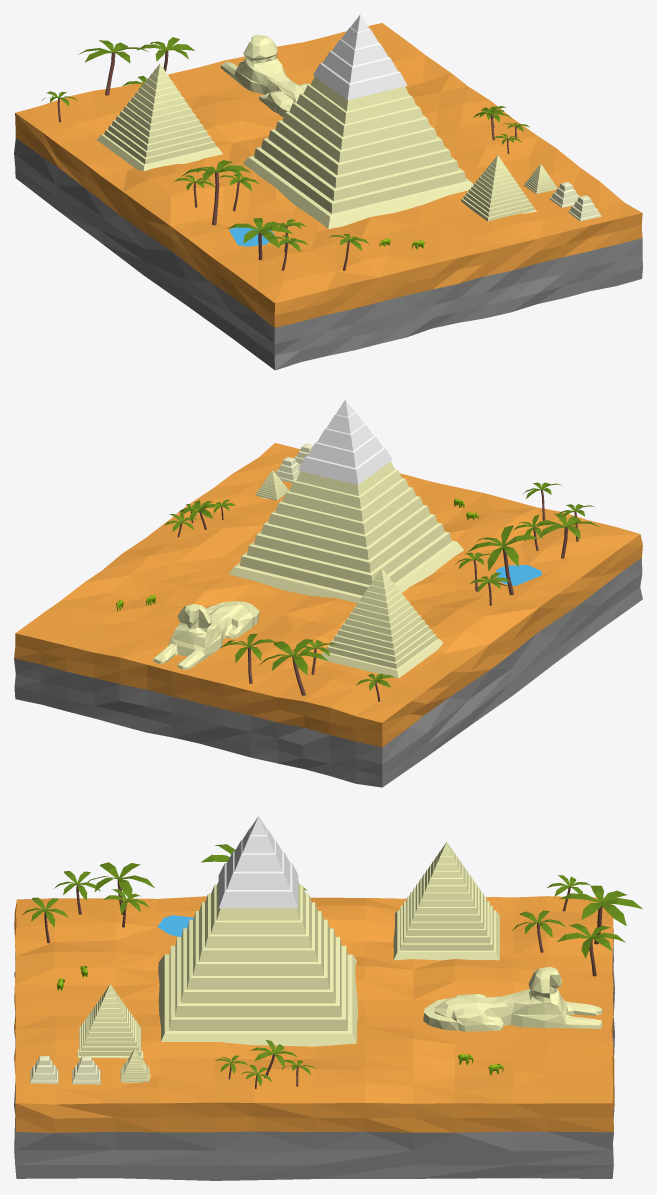
File: piramidetriang.FBX
The picture shows the model from 3 angles, top to bottom: view 1: azimuth 30°, elevation 25°; view 2: azimuth 150°, elevation 25°; view 3: azimuth 270°, elevation 25°; orthographic projection. The views are drawn at different scales.
Visible parts, largest first — view 1: Object068, Object072, Object066, Object064, Object076, Object060, Object062, Object074; view 2: Object068, Object072, Object066, Object064, Object060, Object076, Object062, Object074, Object070; view 3: Object068, Object072, Object066, Object064, Object060, Object076, Object074, Object062.
Part boxes in pixels (bbox=[...]): Object068: bbox=[15, 23, 642, 327]; Object072: bbox=[97, 34, 557, 228]; Object066: bbox=[14, 138, 642, 355]; Object064: bbox=[15, 167, 642, 370]; Object076: bbox=[313, 14, 407, 100]; Object060: bbox=[41, 37, 529, 252]; Object062: bbox=[57, 50, 516, 270]; Object074: bbox=[549, 182, 601, 221]; Object068: bbox=[14, 443, 642, 746]; Object072: bbox=[153, 461, 463, 678]; Object066: bbox=[14, 558, 642, 775]; Object064: bbox=[14, 587, 642, 787]; Object060: bbox=[164, 482, 598, 690]; Object076: bbox=[298, 399, 392, 484]; Object062: bbox=[177, 489, 578, 701]; Object074: bbox=[275, 443, 313, 482]; Object070: bbox=[496, 565, 541, 585]; Object068: bbox=[14, 896, 614, 1132]; Object072: bbox=[77, 842, 602, 1082]; Object066: bbox=[14, 946, 614, 1165]; Object064: bbox=[14, 971, 614, 1180]; Object060: bbox=[22, 844, 642, 1086]; Object076: bbox=[218, 816, 298, 908]; Object074: bbox=[30, 1056, 100, 1084]; Object062: bbox=[44, 878, 602, 1088].
Size of the model in its own units: 10841 by 6480 by 13859.
